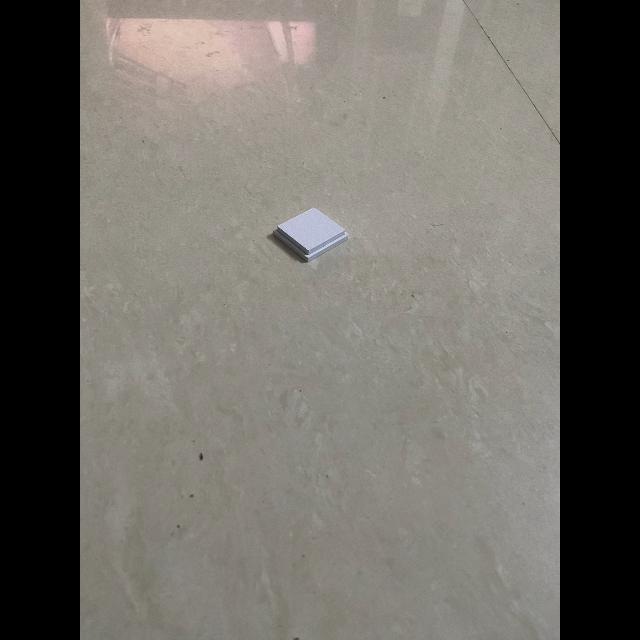RASPBERY PI CAM ENCLOSURE: (273, 208, 349, 262)
